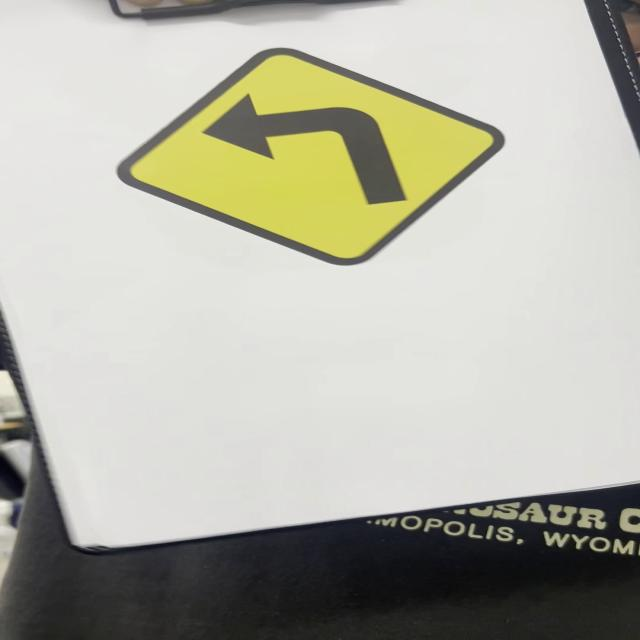left: (108, 50, 505, 266)
